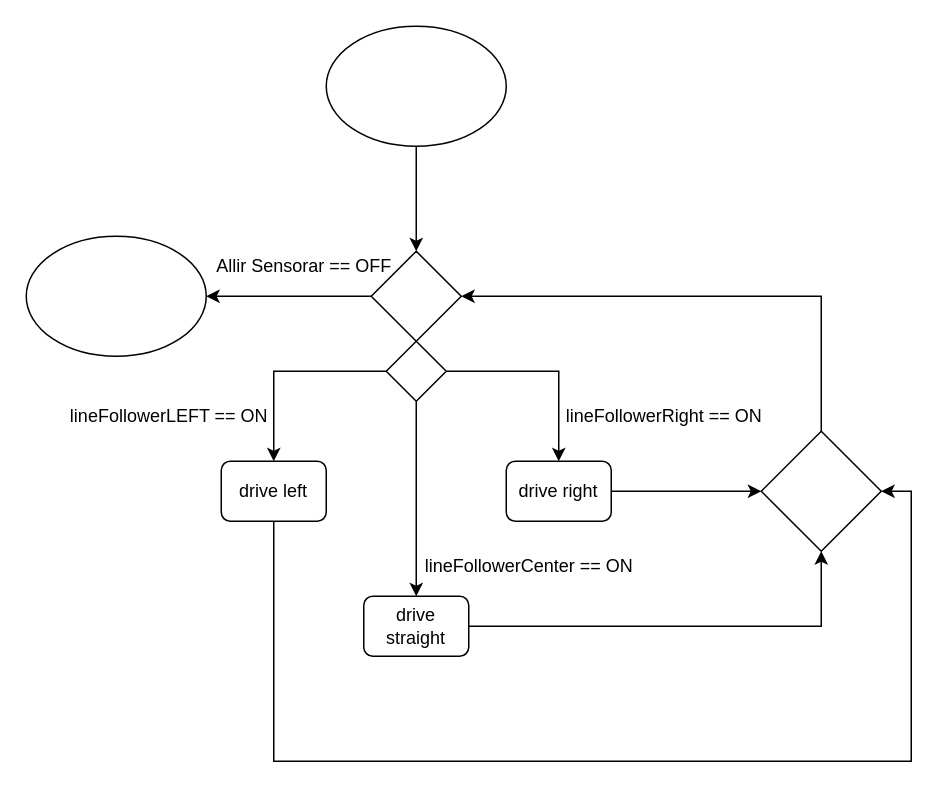
The diagram is 950 pixels wide and 800 high, and some of its shapes have lost their labels. The shapes that lost their labels are listed below. From the top down, each one's box as (x1, y1, x2, y2) in pixels, then its label:
(325, 25, 506, 146): Start
(25, 235, 206, 356): Stop
